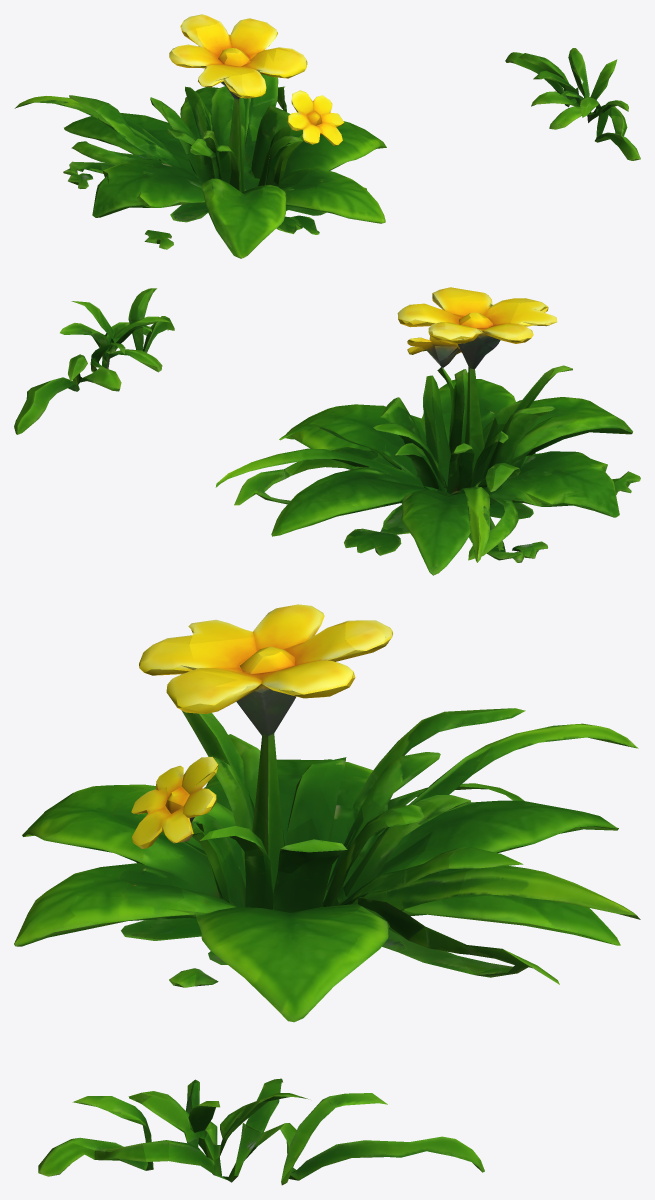
The model's file is flower.glb.
3 views of the same model, one above another, from view 1: azimuth 30°, elevation 25°; view 2: azimuth 150°, elevation 25°; view 3: azimuth 270°, elevation 25° (orthographic). The views are drawn at different scales.
Bounding box in the file's own units: 1.9 × 0.5738 × 1.21.
Materials: 1 (1 with a texture image).
